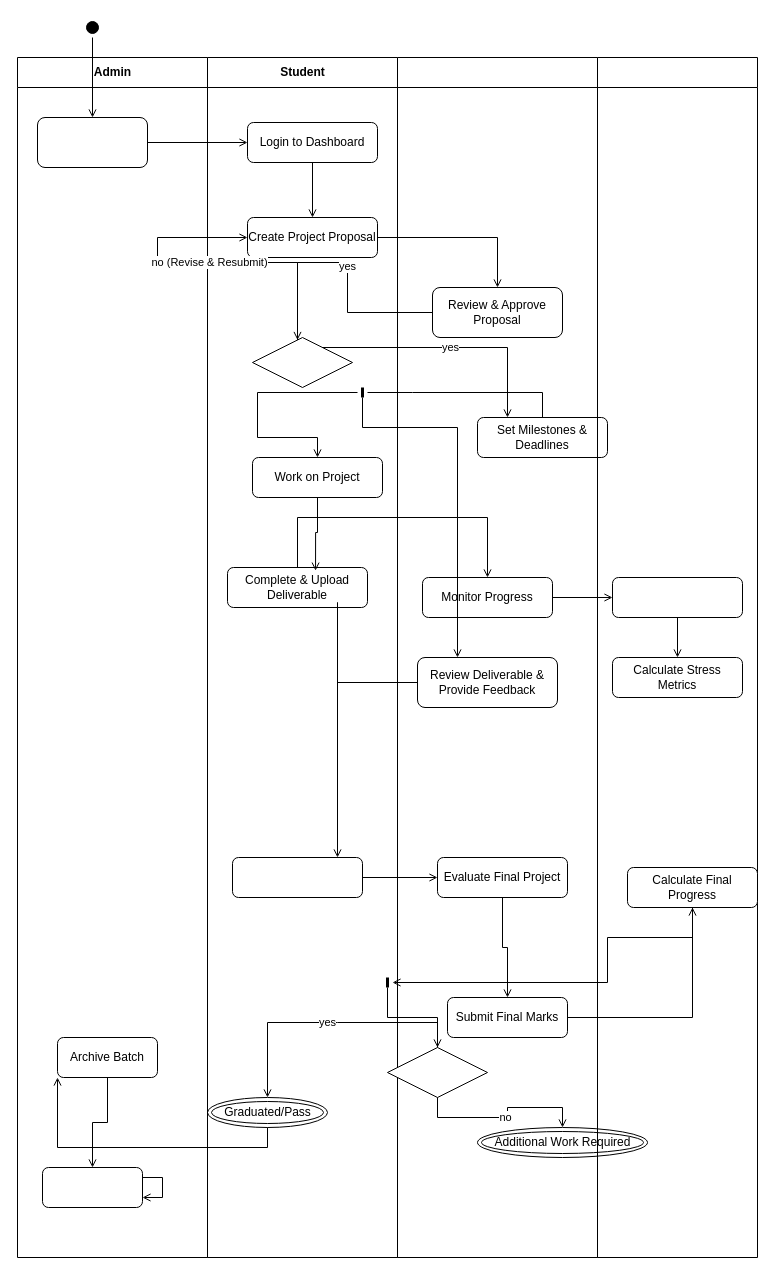
The diagram is 775 pixels wide and 1275 high, and some of its shapes have lost their labels. Each missing label, with the box of its shape:
Create Account & Send Credentials: (36, 116, 148, 168)
Generate Reports: (42, 1166, 142, 1208)
Present Final Defense: (232, 856, 362, 898)
Project Pass?: (386, 1046, 488, 1098)
Proposal Approved?: (252, 336, 352, 388)
Supervisor: (396, 56, 598, 1258)
System Analytics: (596, 56, 758, 1258)
Update Progress Bar: (612, 576, 742, 618)
